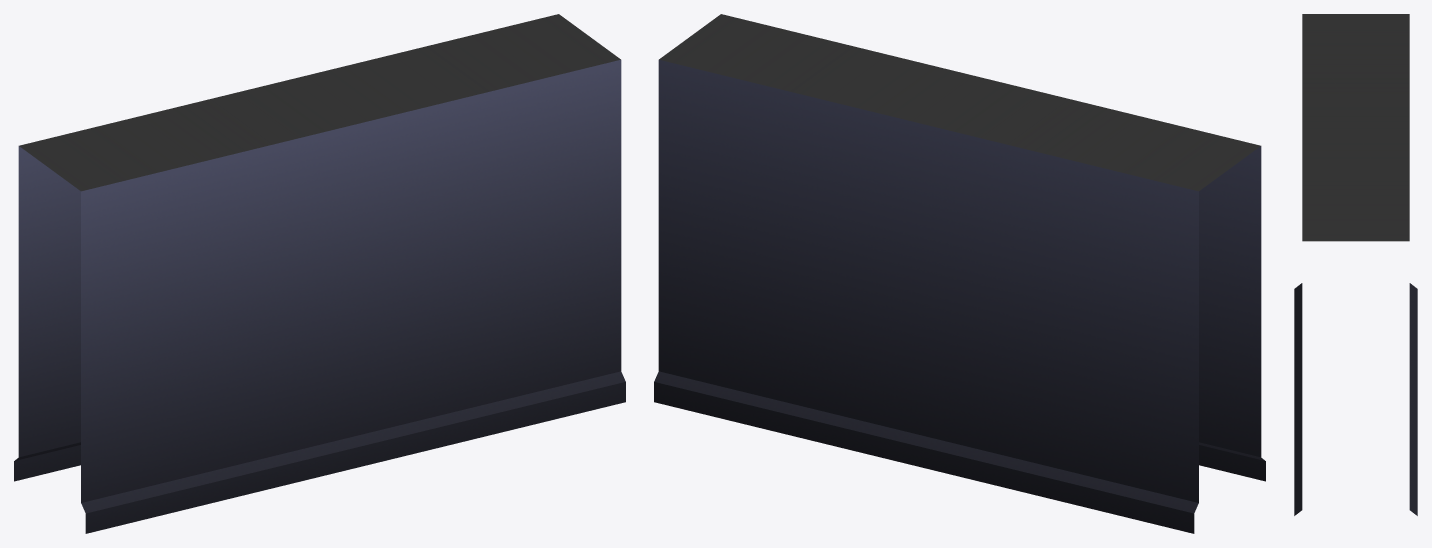
The model's file is wall_outdoor.fbx.
3 views of the same model, side by side, from view 1: azimuth 30°, elevation 25°; view 2: azimuth 150°, elevation 25°; view 3: azimuth 270°, elevation 25° (orthographic). The views are drawn at different scales.
Parts seen in each view (by area): view 1: SM_wall_light_outdoor; view 2: SM_wall_light_outdoor; view 3: SM_wall_light_outdoor.
Part boxes in pixels (bbox=[...]): SM_wall_light_outdoor: bbox=[14, 14, 625, 533]; SM_wall_light_outdoor: bbox=[654, 14, 1265, 533]; SM_wall_light_outdoor: bbox=[1294, 14, 1417, 515].
Bounding box in the file's own units: 500 × 300 × 115.
1 material, 1 textured.
